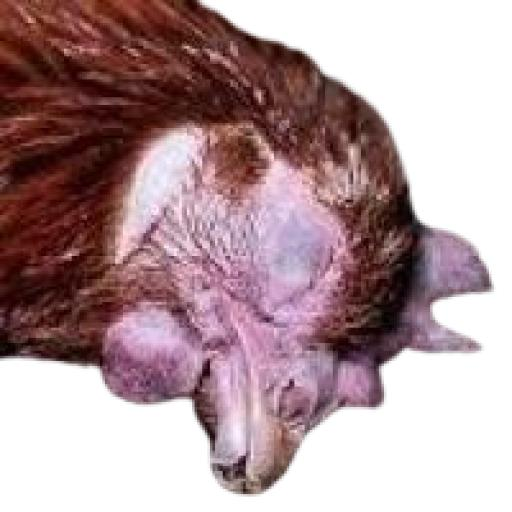disease: (96, 240, 317, 451), (206, 132, 364, 340), (395, 174, 501, 402)
